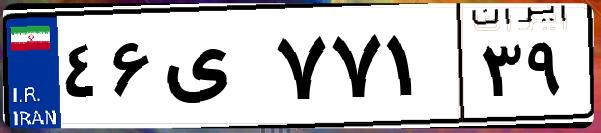1: (385, 28, 445, 110)
3: (475, 38, 525, 113)
4: (57, 26, 110, 100)
6: (110, 28, 158, 98)
7: (270, 28, 330, 110), (330, 28, 385, 110)
9: (525, 38, 570, 115)
ی: (158, 20, 270, 120)
